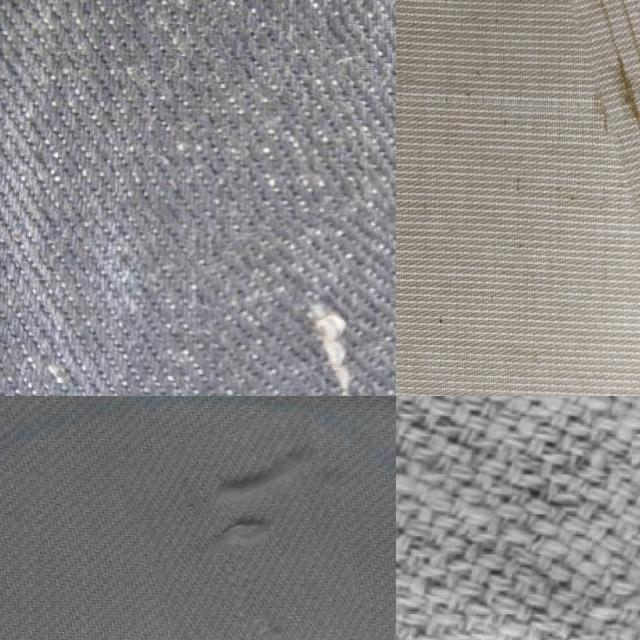Thread_other: (134, 417, 360, 640), (207, 205, 396, 396), (545, 0, 640, 226)
